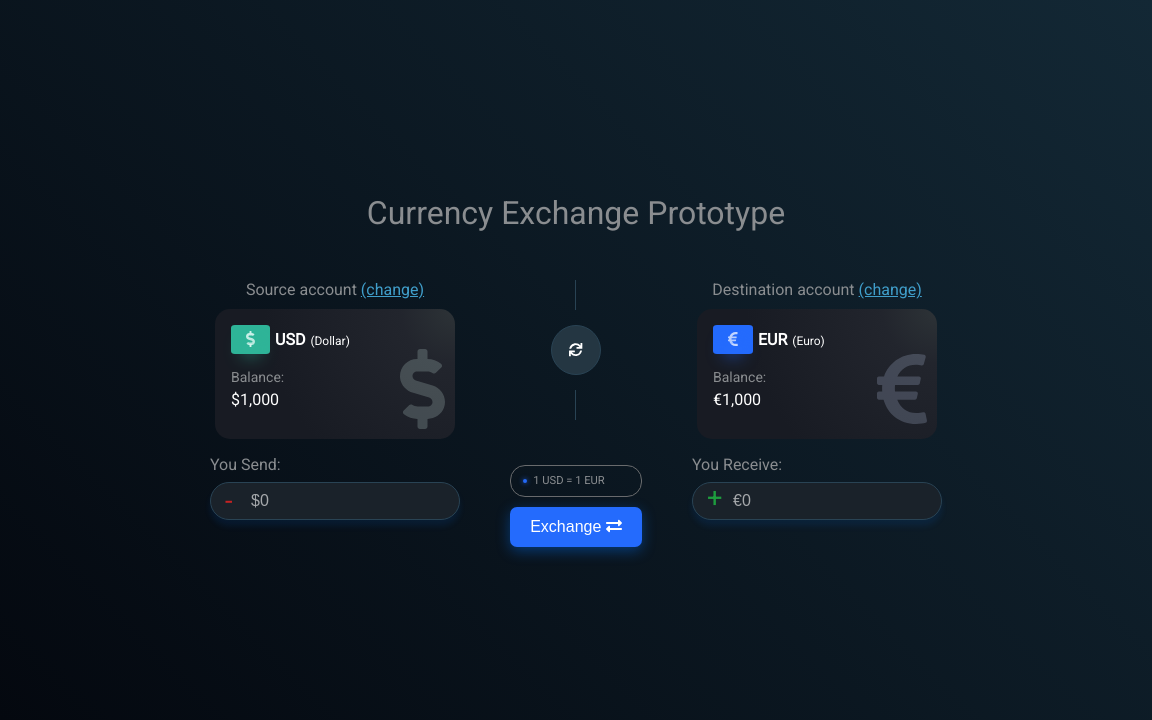
Test case: change destination account
This screenshot has width=1152, height=720.
Click the text "(change)" next to "Destination account": (890, 290) [859, 280, 922, 299]
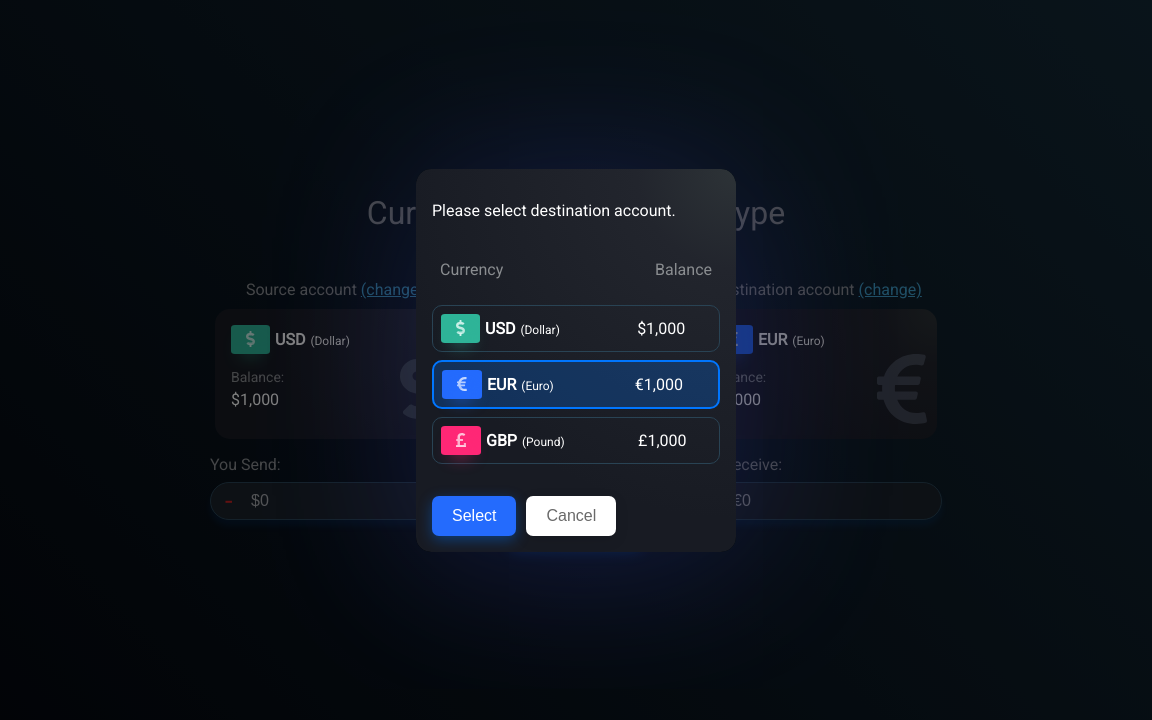
Check: the text "Please select destination account." is shown, box [432, 200, 676, 220]
Click the text "GBP": (502, 440) [486, 430, 517, 450]
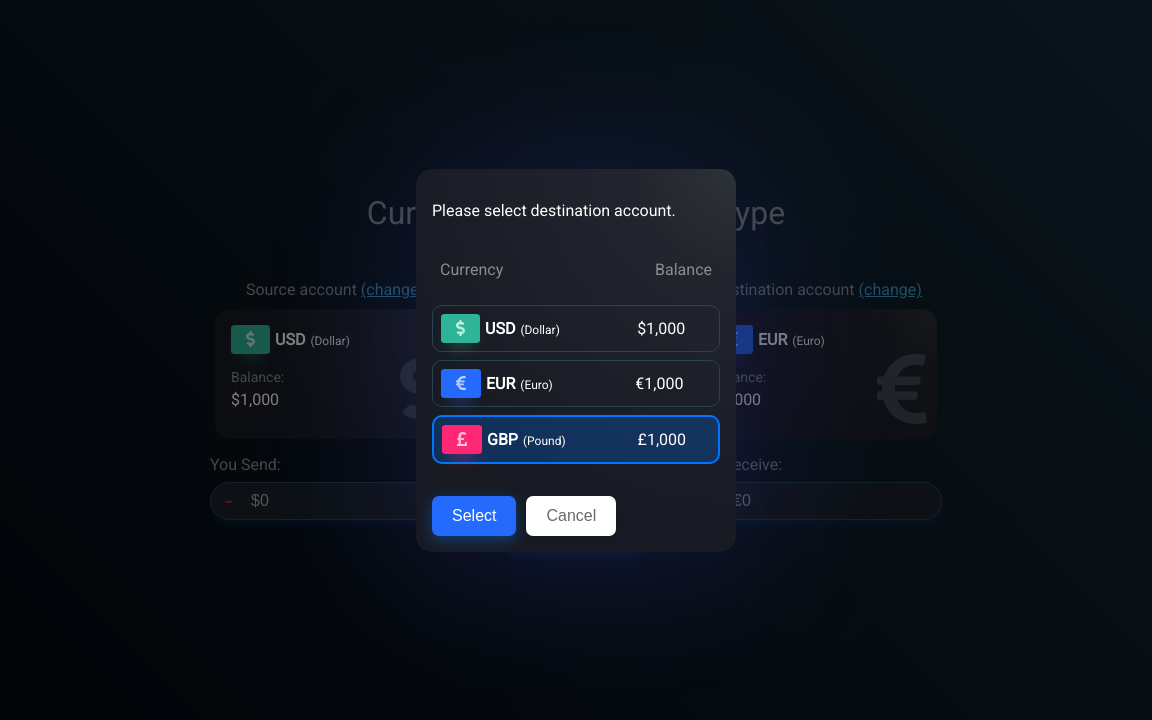
Click the button "Select": (474, 516) [432, 496, 516, 536]
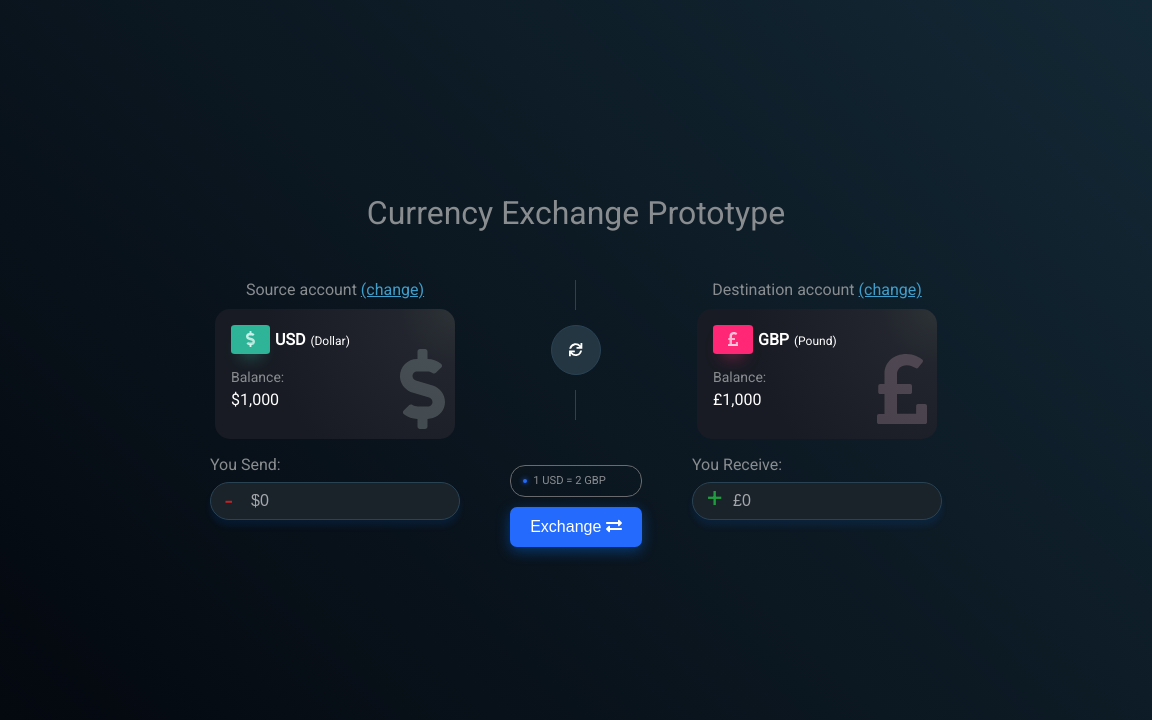
Check: the text "1 USD = 2 GBP" is shown, box [533, 474, 606, 487]
Check: the element with test id "currency-label" shows "GBP", box [758, 330, 789, 349]
